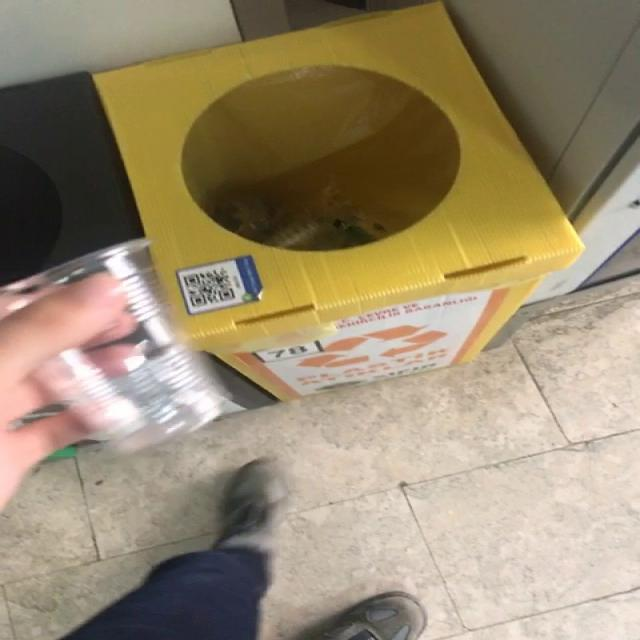plastic: (1, 239, 227, 452)
